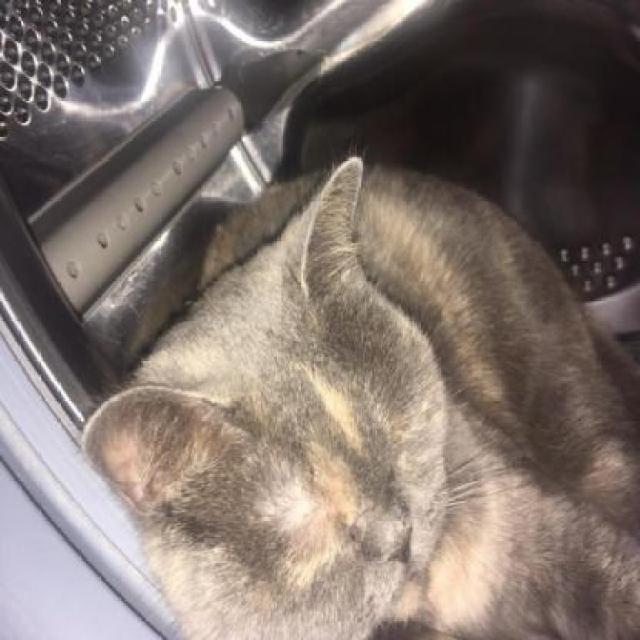cat: (55, 149, 640, 640)
